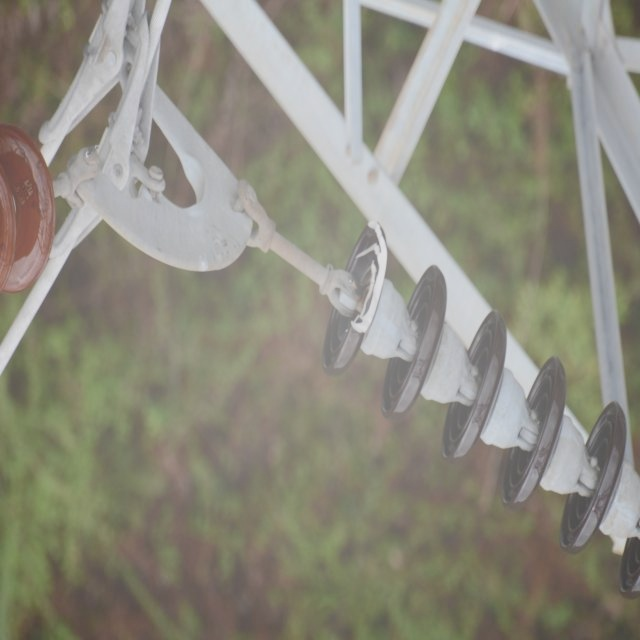broken: (348, 216, 388, 335)
insulator: (319, 217, 640, 595), (0, 122, 55, 300)
